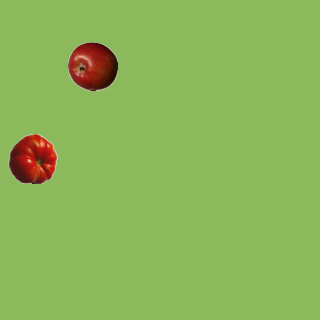Apple Braeburn: (67, 41, 117, 91)
Tomato 3: (7, 133, 57, 183)
